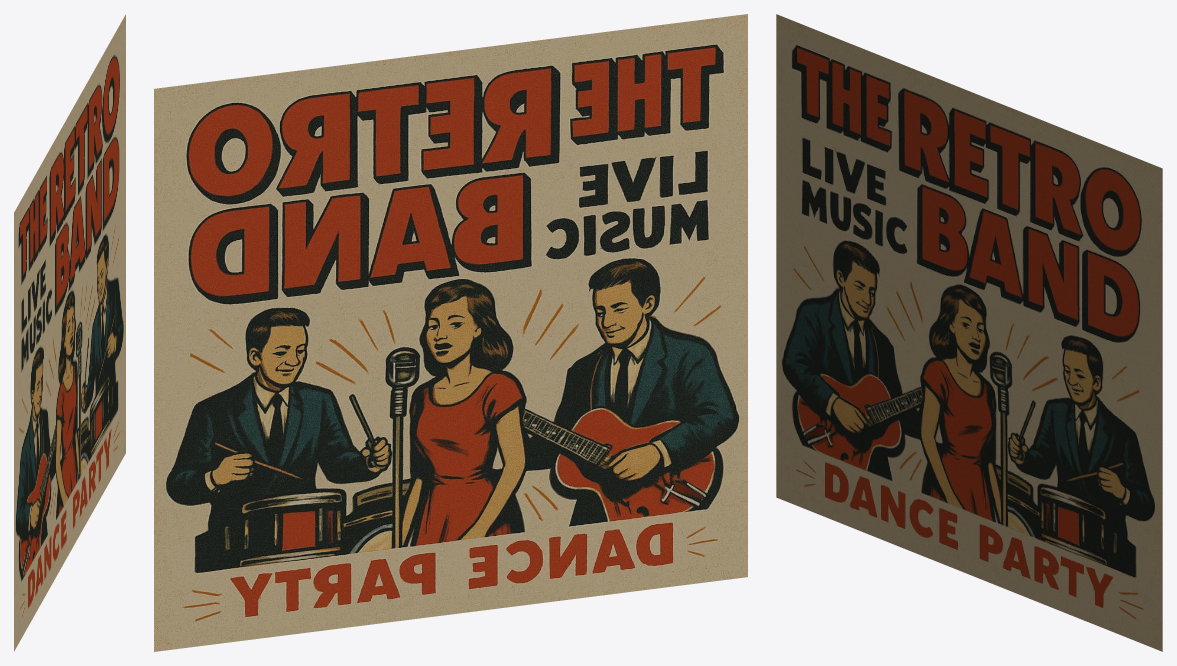
File: image03.glb
3 views of the same model, side by side, from view 1: azimuth 30°, elevation 25°; view 2: azimuth 150°, elevation 25°; view 3: azimuth 270°, elevation 25° (orthographic). The views are drawn at different scales.
Visible parts, largest first — view 1: image03; view 2: image03; view 3: image03.
Part boxes in pixels (x1=…): image03: x1=14, y1=14, x2=125, y2=651; image03: x1=154, y1=14, x2=747, y2=651; image03: x1=776, y1=14, x2=1162, y2=651.
Bounding box in the file's own units: 1.54 × 2.25 × 1.63.
1 material, 1 textured.
